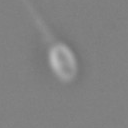normal: (23, 1, 56, 43)
